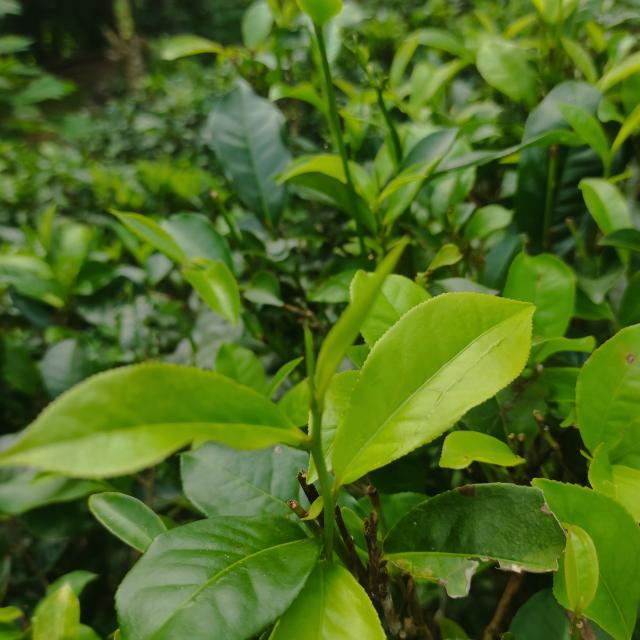unopened_leaf: (298, 313, 322, 411)
